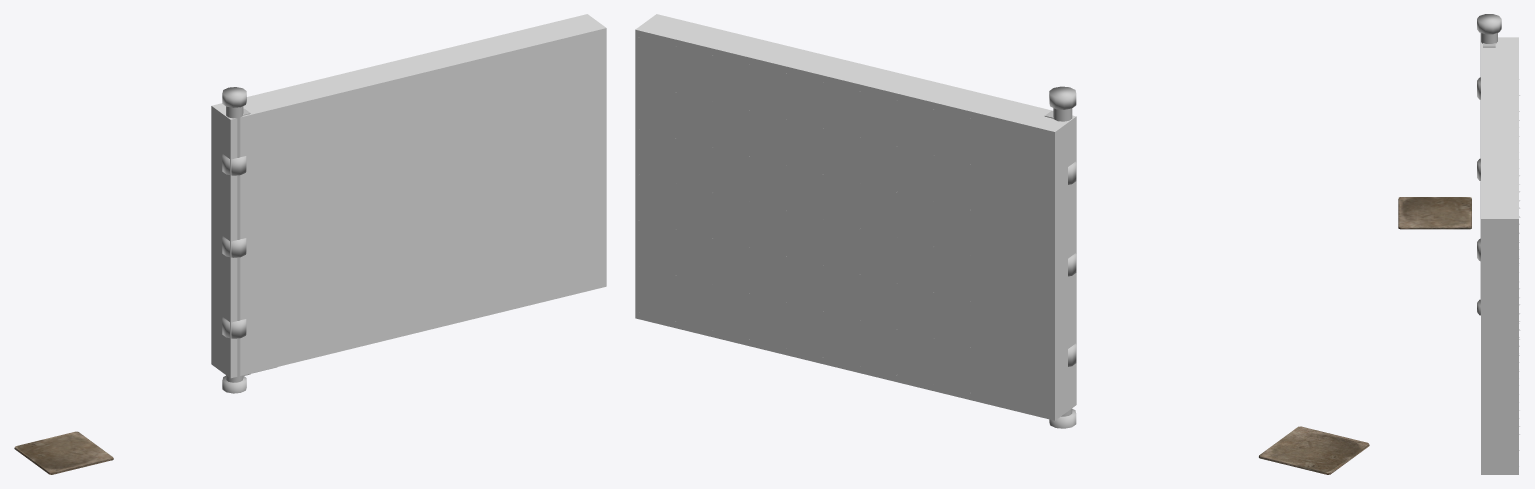
The model's file is deathtrap_06.fbx.
3 renders of one model, left to right at view 1: azimuth 30°, elevation 25°; view 2: azimuth 150°, elevation 25°; view 3: azimuth 270°, elevation 25°, orthographic. The views are drawn at different scales.
Visible parts, largest first — view 1: spikes_col, trap, timber, spikes; view 2: spikes_col, trap, timber; view 3: spikes_col, trap, timber, spikes.
Part boxes in pixels (bbox=[...]): spikes_col: bbox=[211, 14, 606, 378]; trap: bbox=[14, 431, 113, 474]; timber: bbox=[222, 87, 246, 393]; spikes: bbox=[222, 108, 277, 376]; spikes_col: bbox=[635, 14, 1076, 420]; trap: bbox=[1259, 426, 1369, 474]; timber: bbox=[1049, 86, 1076, 428]; spikes_col: bbox=[1481, 37, 1518, 474]; trap: bbox=[1398, 197, 1471, 229]; timber: bbox=[1477, 14, 1501, 315]; spikes: bbox=[1477, 43, 1520, 450].
Bounding box in the file's own units: 7.45 × 3.52 × 1.33.
